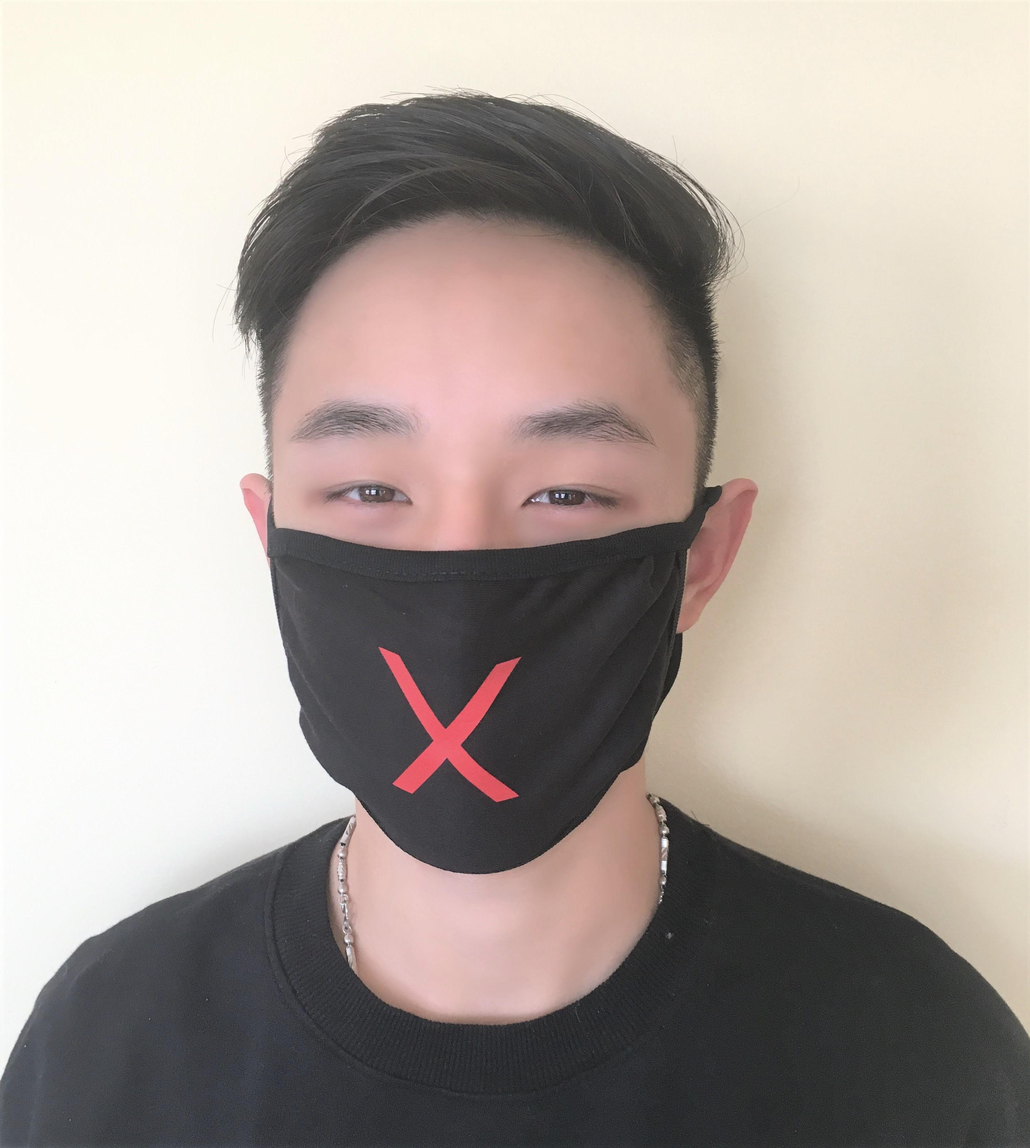Wearing Mask: (112, 4, 873, 973)
